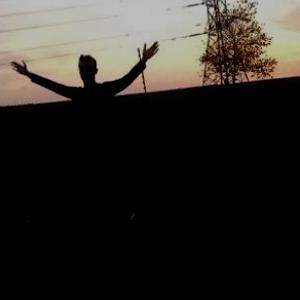takeoff: (19, 44, 152, 215)
